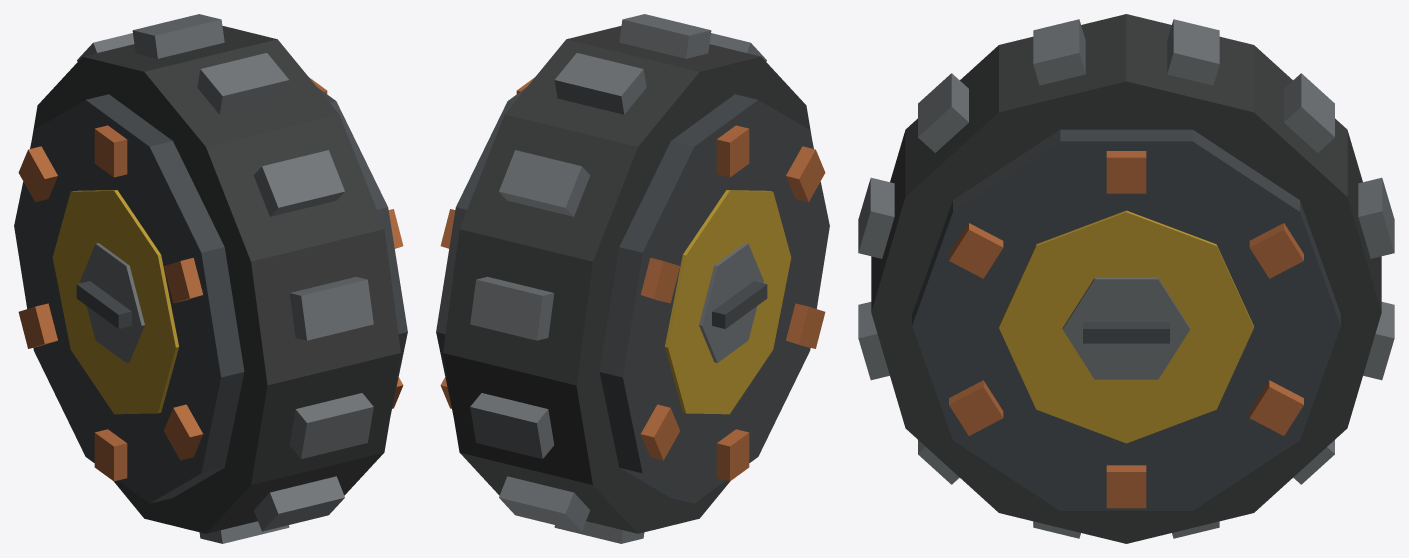
File: item_tyre_runflat.glb
The picture shows the model from 3 angles, left to right: view 1: azimuth 30°, elevation 25°; view 2: azimuth 150°, elevation 25°; view 3: azimuth 270°, elevation 25°; orthographic projection. The views are drawn at different scales.
Parts seen in each view (by area): view 1: tyre; view 2: tyre; view 3: tyre.
Boxes of the visible parts, left/top/right/bottom form: tyre: left=14, top=14, right=407, bottom=543; tyre: left=436, top=14, right=829, bottom=543; tyre: left=858, top=14, right=1394, bottom=543.
Size of the model in its own units: 0.34 by 0.6724 by 0.6724.
